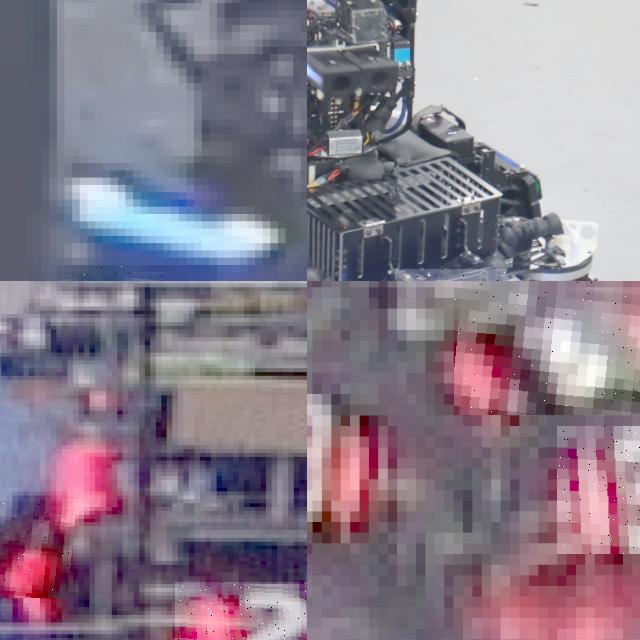R2: (175, 582, 307, 640), (0, 501, 75, 597)
R3: (453, 281, 640, 415), (307, 372, 378, 543), (557, 426, 640, 554)
